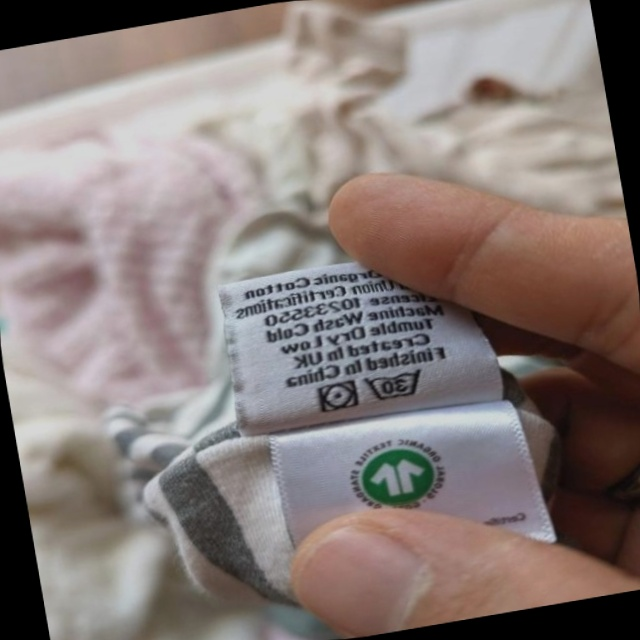30C: (359, 361, 431, 409)
tumble_dry_low: (312, 375, 364, 419)
